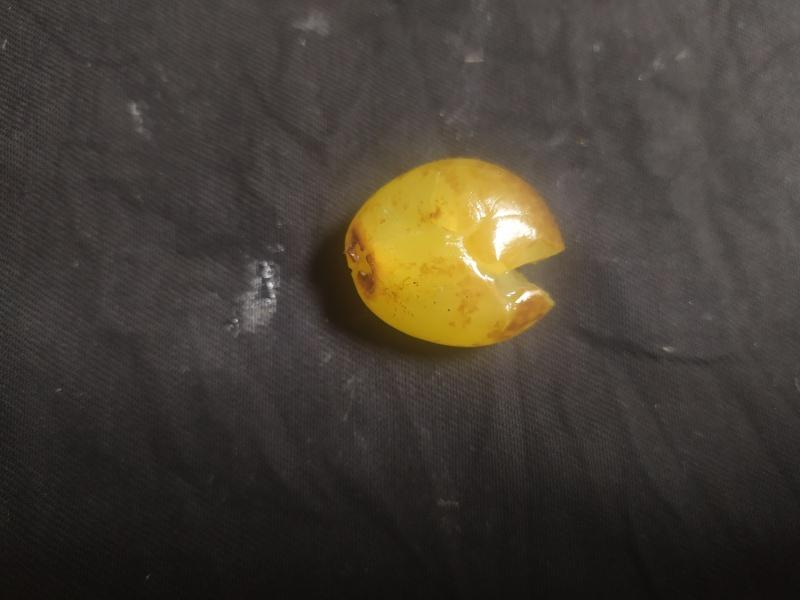Grape Overripe: (341, 155, 567, 350)
